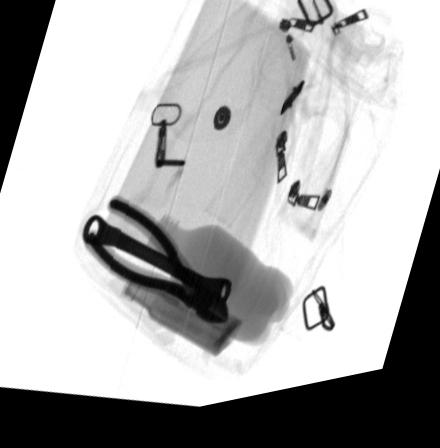Pliers: (80, 198, 230, 336)
Wrench: (80, 218, 231, 314)
